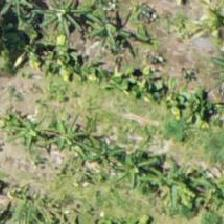coconut_tree: (176, 0, 223, 64)
